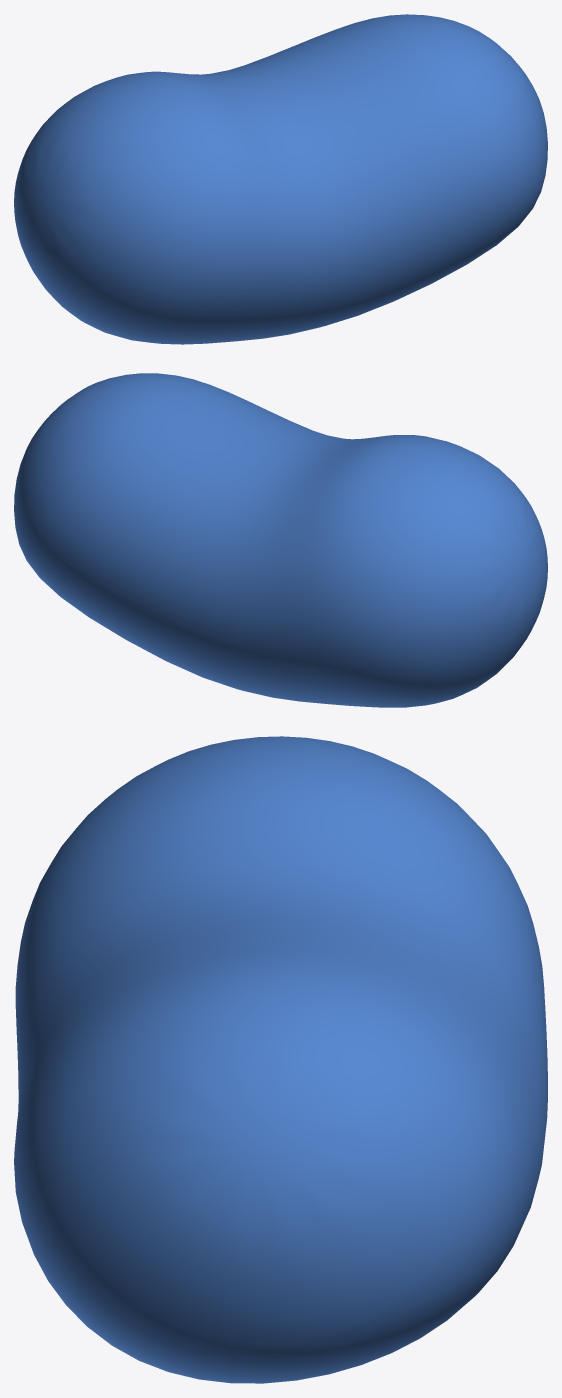
File: Candy 04.fbx
The picture shows the model from 3 angles, top to bottom: view 1: azimuth 30°, elevation 25°; view 2: azimuth 150°, elevation 25°; view 3: azimuth 270°, elevation 25°; orthographic projection. The views are drawn at different scales.
Visible parts, largest first — view 1: Candy_04; view 2: Candy_04; view 3: Candy_04.
Part boxes in pixels (bbox=[...]): Candy_04: bbox=[14, 14, 547, 344]; Candy_04: bbox=[14, 373, 547, 707]; Candy_04: bbox=[14, 736, 547, 1383].
Bounding box in the file's own units: 24 × 12 × 13.
